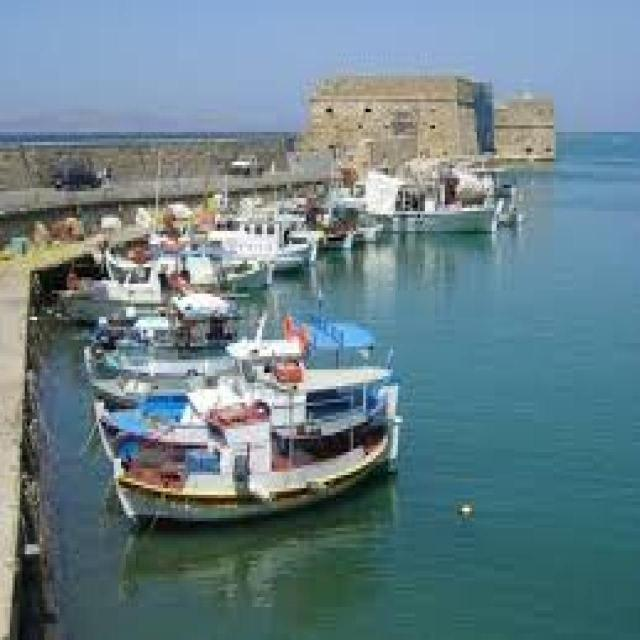Kules: (304, 67, 558, 166)
